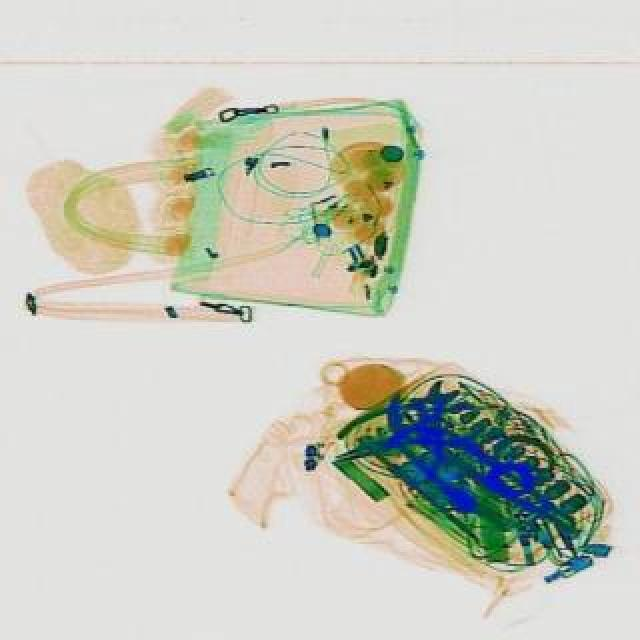wrench: (330, 352, 486, 496), (326, 396, 486, 476)
